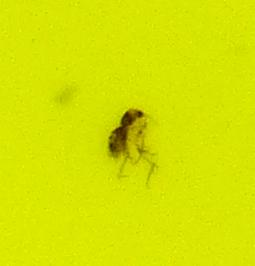Nematocera: (100, 100, 155, 166)
